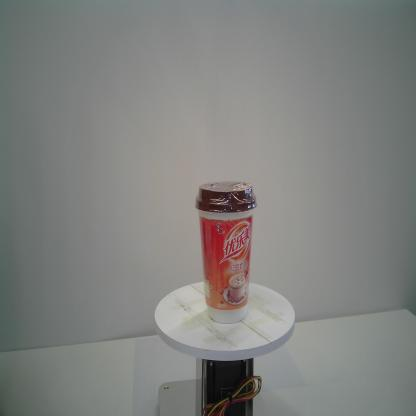Instant Drink: (194, 178, 259, 328)
